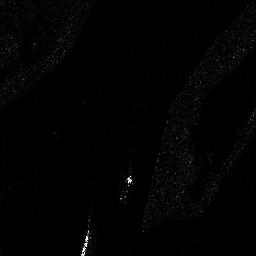ship: (120, 173, 133, 200), (80, 228, 90, 256)
